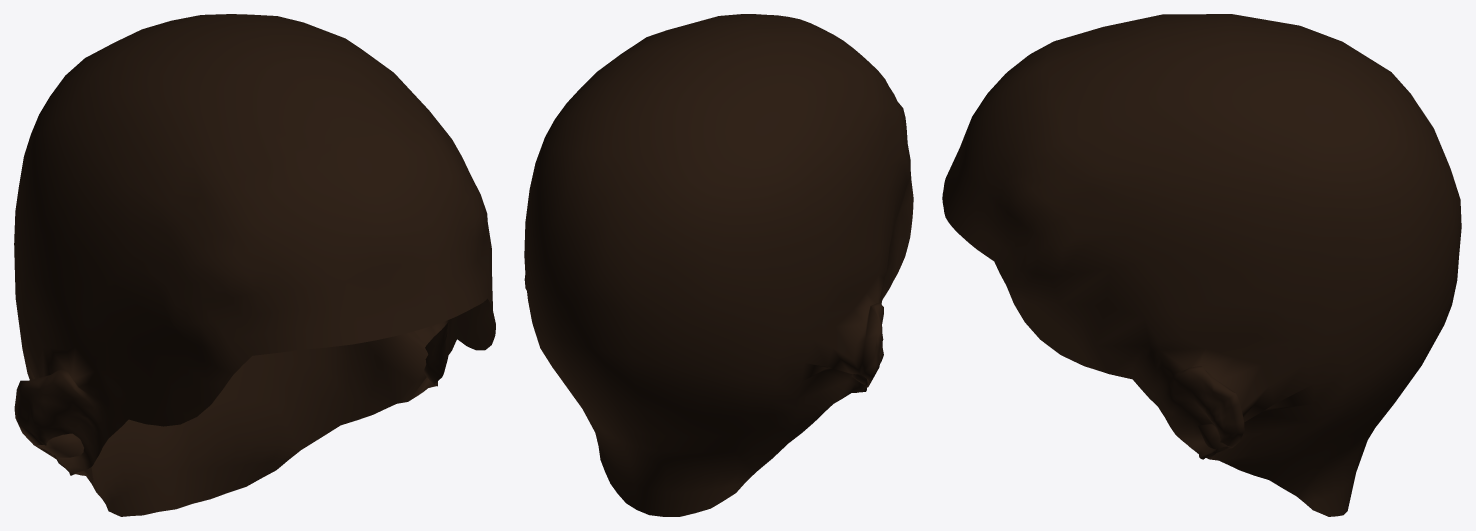
Rendered from hair_buzz.glb.
3 views of the same model, side by side, from view 1: azimuth 30°, elevation 25°; view 2: azimuth 150°, elevation 25°; view 3: azimuth 270°, elevation 25° (orthographic). The views are drawn at different scales.
Visible parts, largest first — view 1: hair_buzz; view 2: hair_buzz; view 3: hair_buzz.
Part boxes in pixels (box(x1,y1,x2,y2)): hair_buzz: box(14, 14, 495, 516); hair_buzz: box(524, 14, 913, 516); hair_buzz: box(942, 14, 1461, 516).
Size of the model in its own units: 0.1908 by 0.22 by 0.2208.
